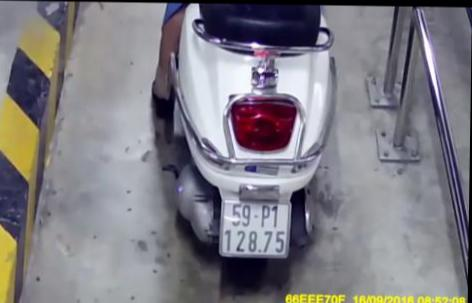LP: (220, 196, 293, 259)
